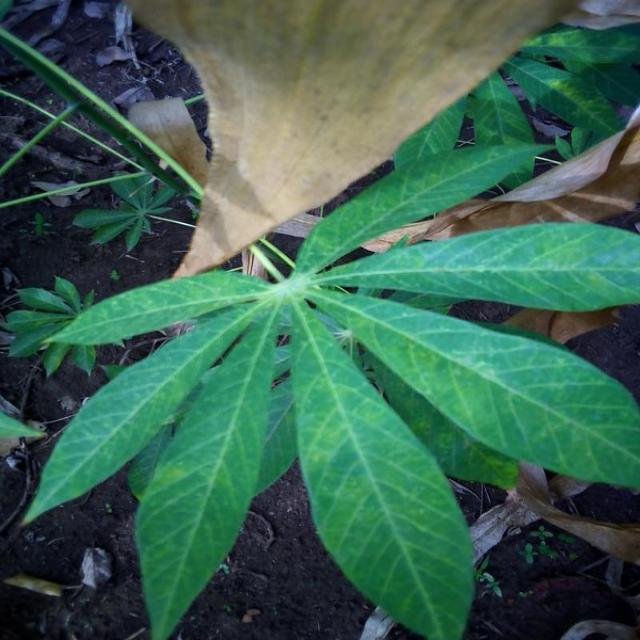cassava leaf: (10, 3, 640, 637), (289, 296, 476, 638)
